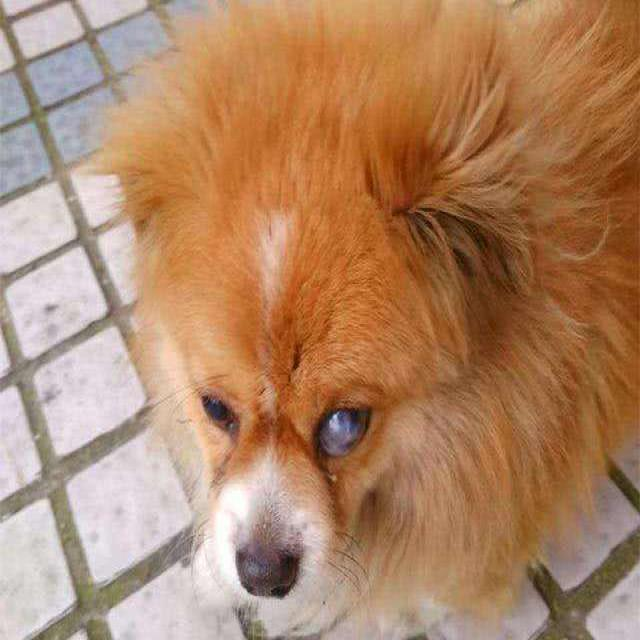eye: (312, 397, 375, 465), (195, 384, 238, 431)
